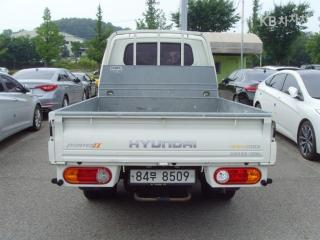0: (176, 170, 183, 182)
4: (142, 170, 150, 184)
5: (169, 170, 177, 182)
8: (135, 170, 143, 183), (161, 170, 169, 183)
9: (183, 170, 190, 182)
plate: (125, 165, 201, 189)
무: (150, 170, 158, 182)
